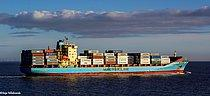Ship: (18, 32, 193, 83)
